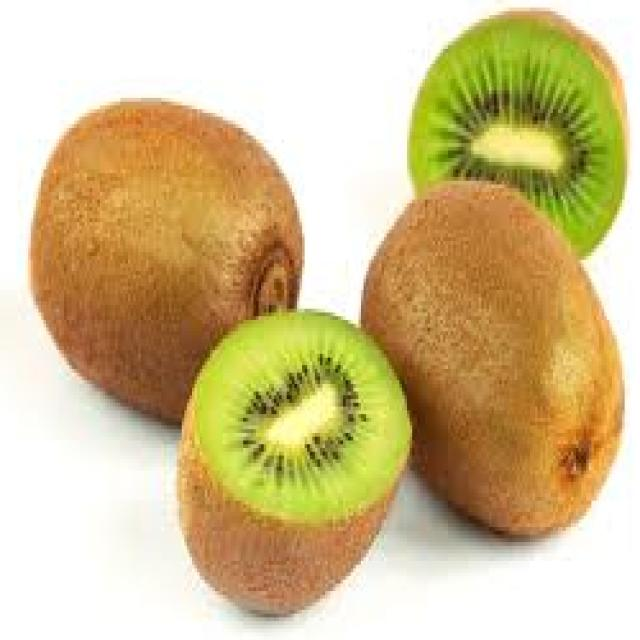kiwi: (31, 0, 640, 617)
